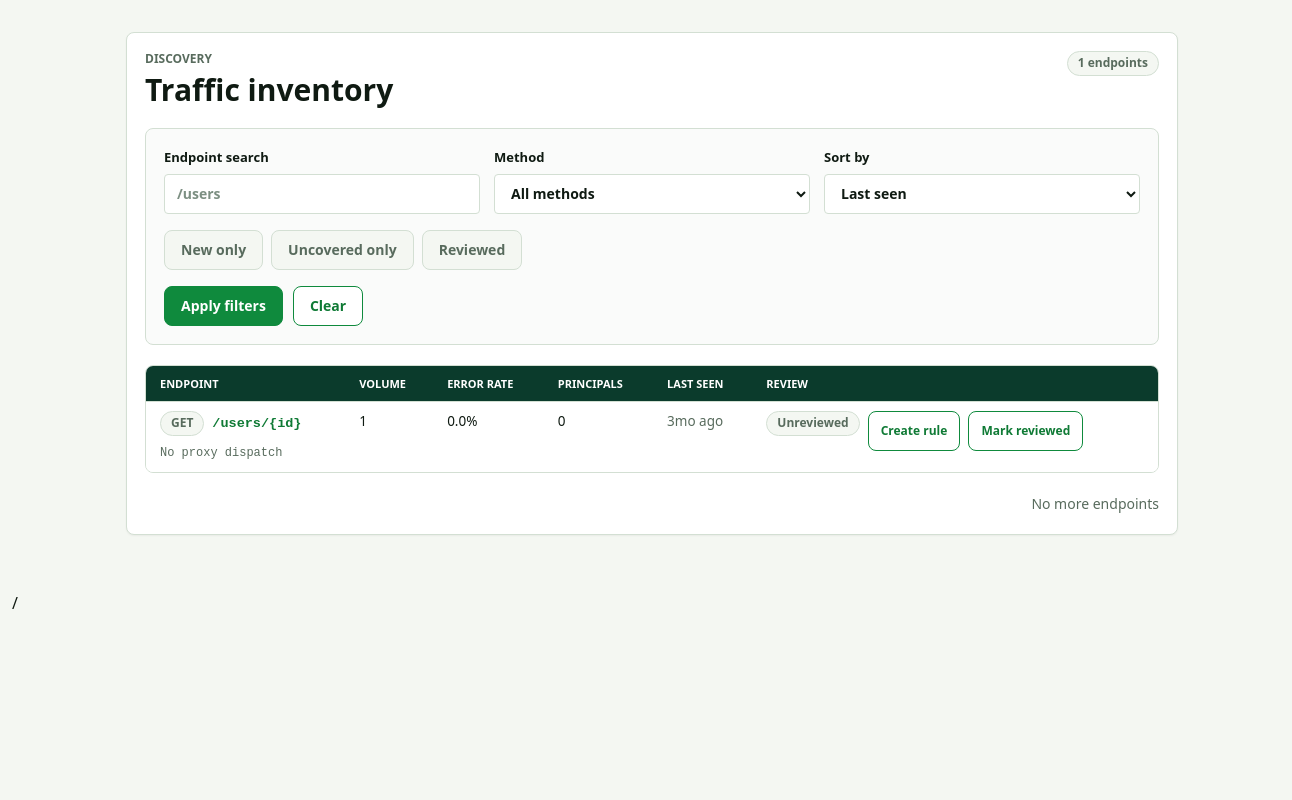
it: TrafficInventory › marks and clears endpoint review state from the table
The image size is (1292, 800).
Expected: the link "/users/{id}" is shown, x1=212 y1=413 x2=302 y2=434
Click the button with aria-label "Mark reviewed GET /users/{id}" at (1026,431), box x1=968 y1=411 x2=1083 y2=451
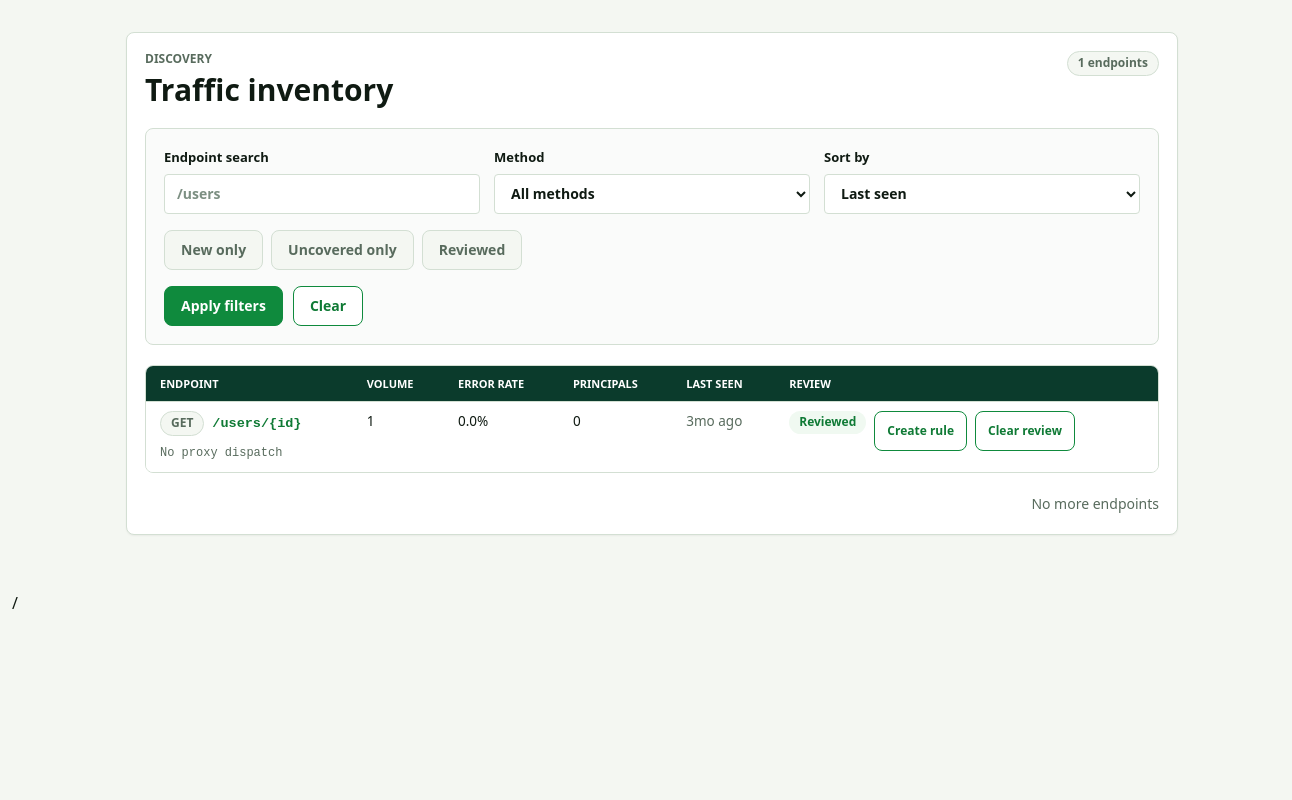
Expected: the button with aria-label "Clear review GET /users/{id}" is shown
Click the button with aria-label "Clear review GET /users/{id}" at (1025,431), box x1=975 y1=411 x2=1075 y2=451
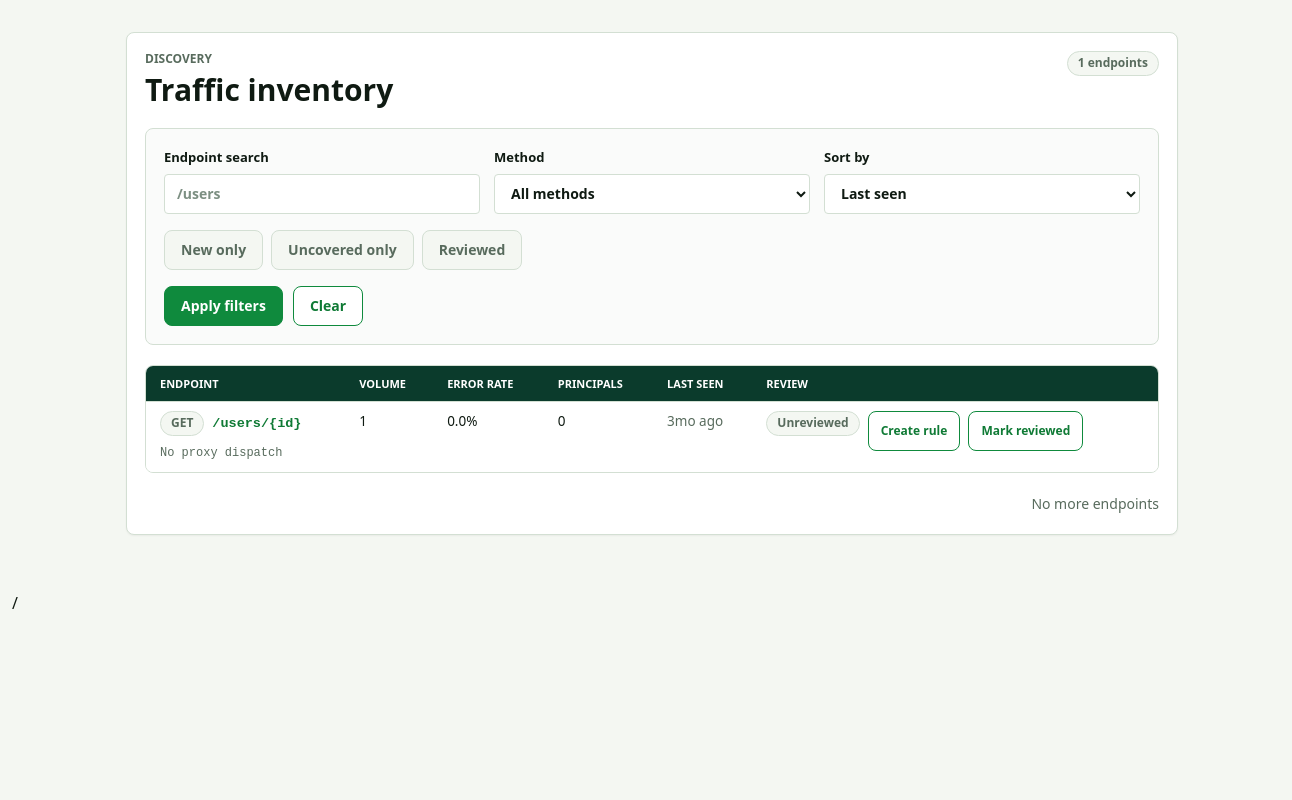
Expected: the button with aria-label "Mark reviewed GET /users/{id}" is shown, x1=968 y1=411 x2=1083 y2=451
